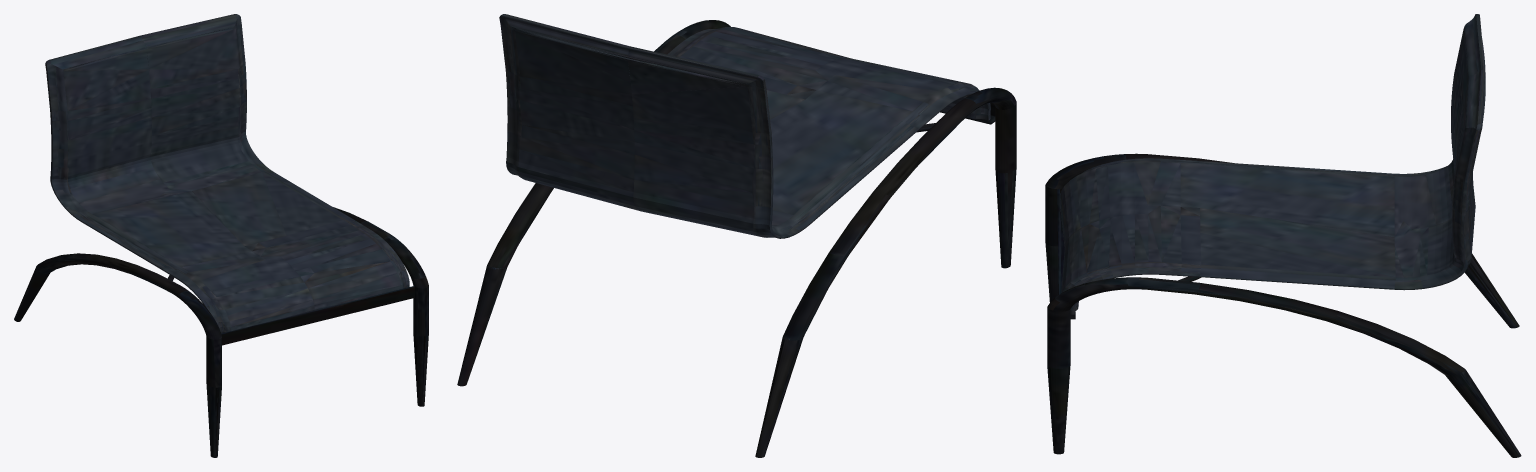
Rendered from chair_1.glb.
3 renders of one model, left to right at view 1: azimuth 30°, elevation 25°; view 2: azimuth 150°, elevation 25°; view 3: azimuth 270°, elevation 25°, orthographic. The views are drawn at different scales.
Parts seen in each view (by area): view 1: chair_1; view 2: chair_1; view 3: chair_1.
Part boxes in pixels (x1,y1,x2,y2): chair_1: [14, 14, 428, 457]; chair_1: [457, 14, 1016, 457]; chair_1: [1045, 14, 1521, 457].
Size of the model in its own units: 1.57 by 1.73 by 2.32.
Materials: 1 (1 with a texture image).
